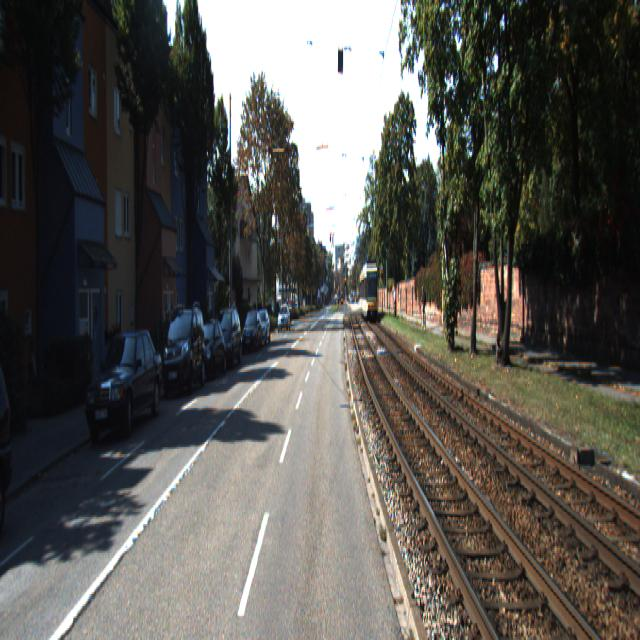Car: (84, 325, 164, 446), (0, 328, 24, 551), (160, 302, 207, 401), (192, 317, 225, 384), (210, 305, 242, 373), (359, 261, 379, 321), (241, 310, 262, 356), (253, 310, 271, 349)
